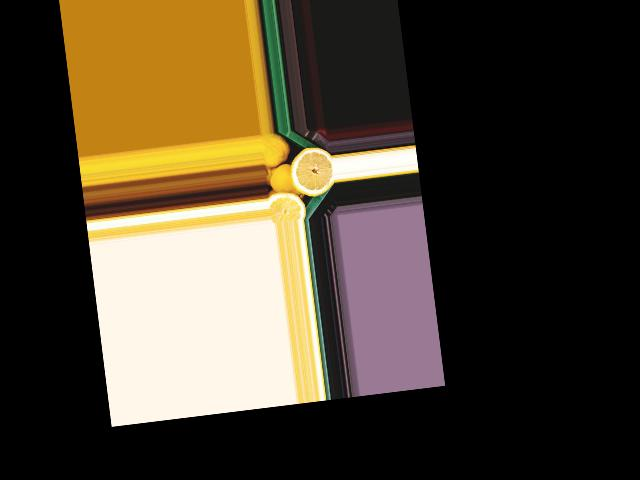lemon: (267, 163, 301, 199)
